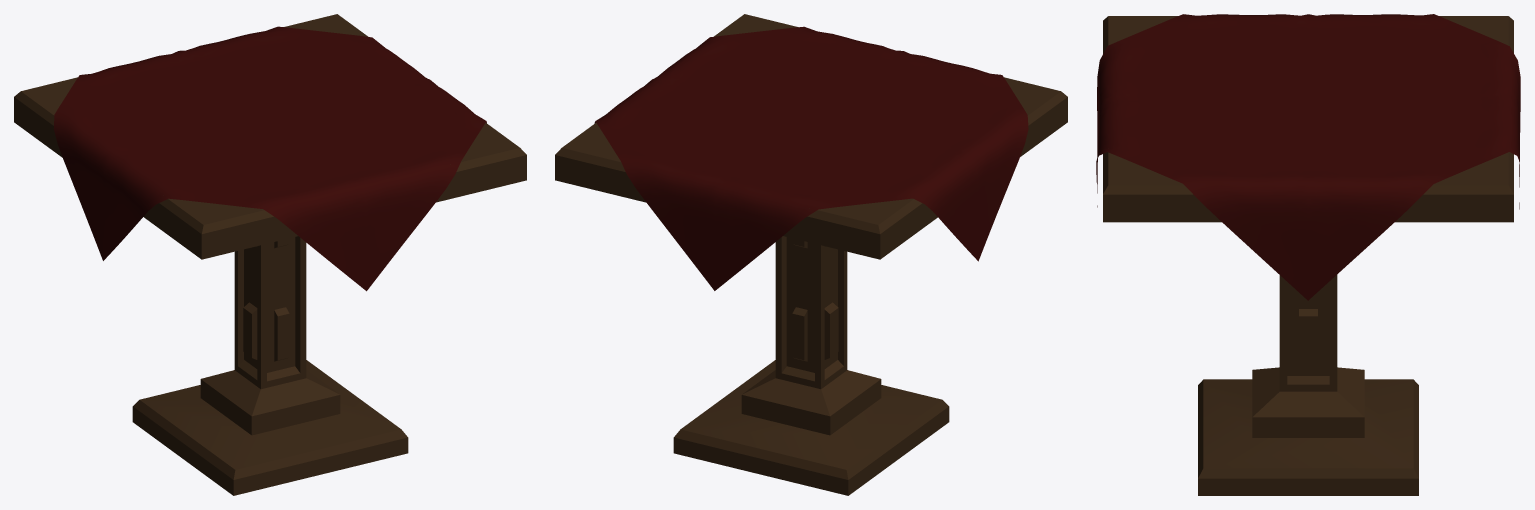
File: MesaMantelRandom.fbx
3 views of the same model, side by side, from view 1: azimuth 30°, elevation 25°; view 2: azimuth 150°, elevation 25°; view 3: azimuth 270°, elevation 25° (orthographic). The views are drawn at different scales.
Parts seen in each view (by area): view 1: Box001; view 2: Box001; view 3: Box001.
Boxes of the visible parts, x1,y1,x2,y2 form: Box001: [14, 14, 526, 495]; Box001: [555, 14, 1067, 495]; Box001: [1096, 14, 1520, 495].
Size of the model in its own units: 110 by 110 by 101.
